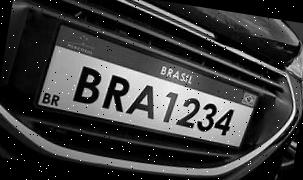placa_mercosul: (33, 23, 260, 149)
